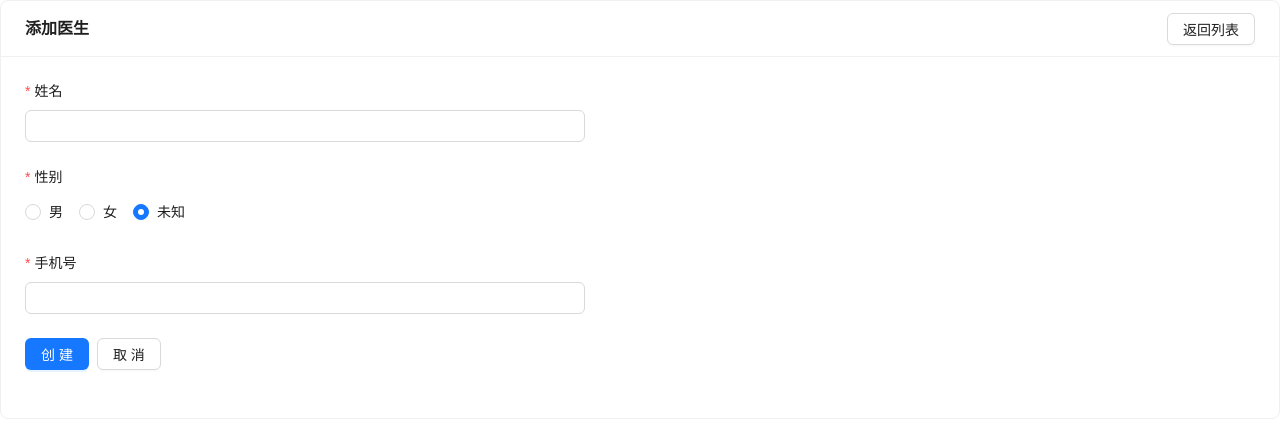
DoctorCreatePage › validates phone before submit
In the field labelled "姓名": [305, 126] box [25, 110, 585, 142], type "新医生"
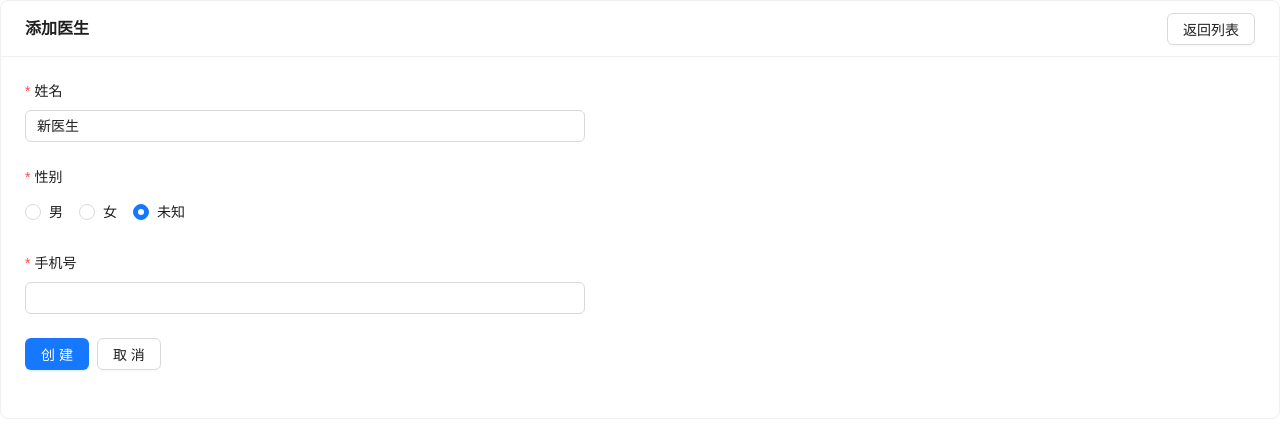
In the field labelled "手机号": [305, 298] box [25, 282, 585, 314], type "12345"
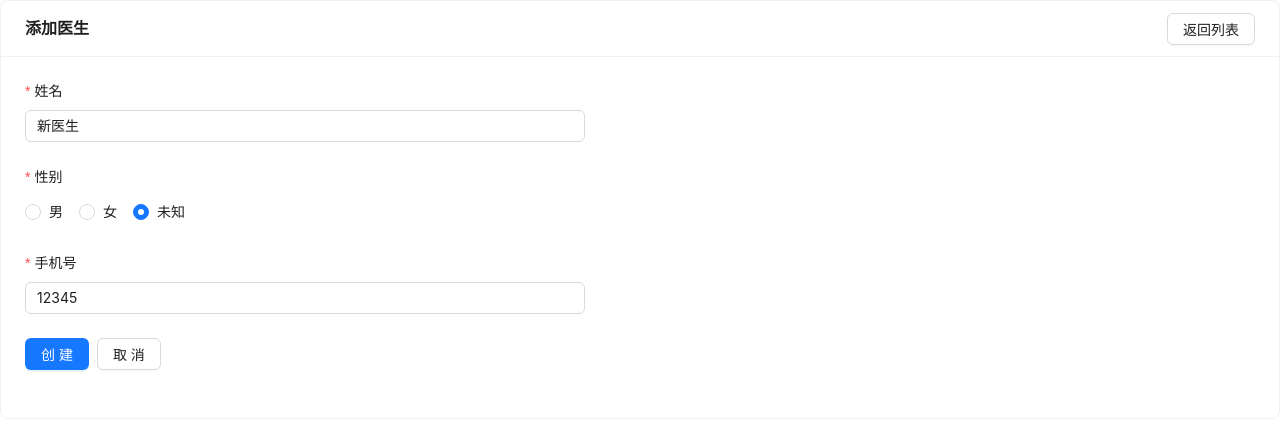
Click the button "创 建": [57, 354] box [25, 338, 89, 370]
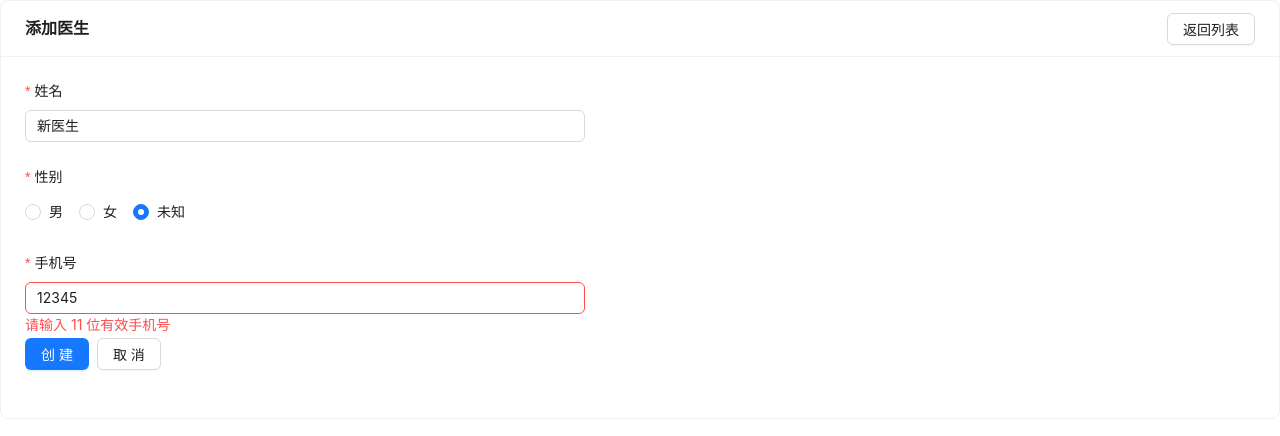
Expected: the text "请输入 11 位有效手机号" is shown, [25, 316, 170, 333]
